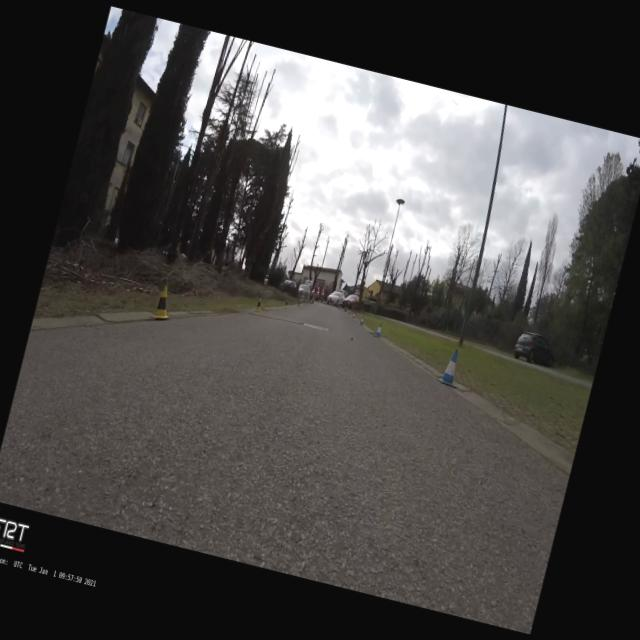blue_cone: (436, 347, 464, 388), (372, 322, 383, 338), (359, 316, 364, 324), (352, 312, 355, 318)
yellow_cone: (149, 282, 176, 322), (254, 297, 264, 312), (284, 300, 288, 308)
